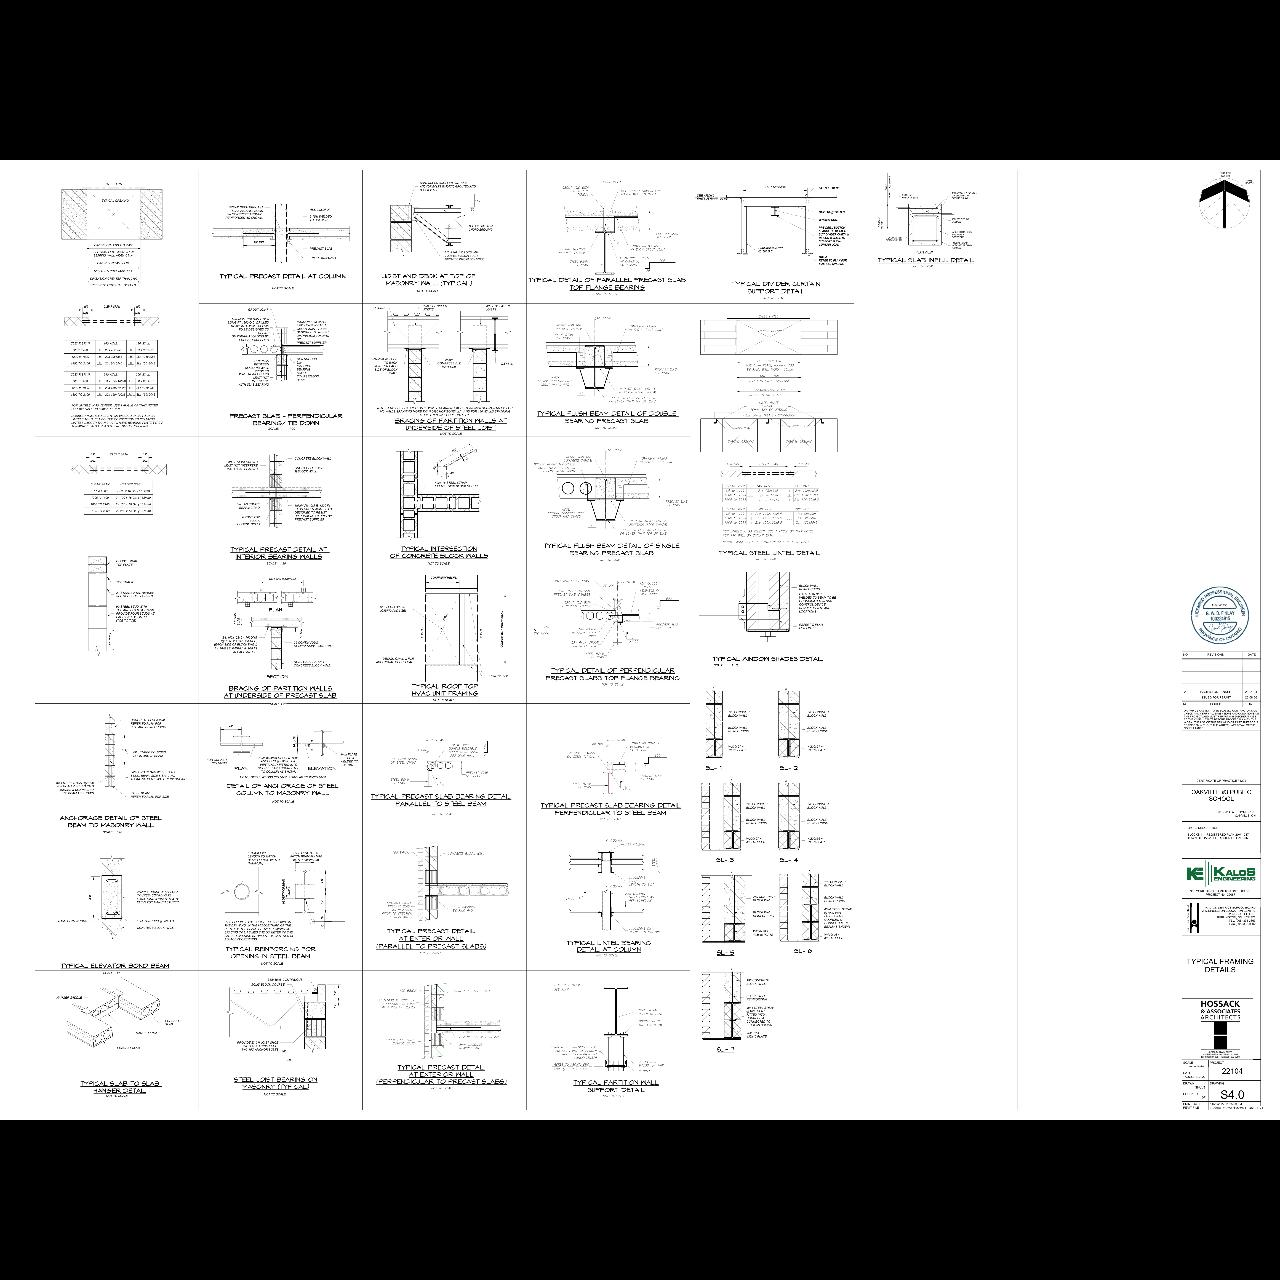title: (373, 1063, 511, 1091), (369, 791, 515, 817), (527, 274, 687, 297), (374, 926, 489, 956), (543, 666, 683, 690), (538, 799, 685, 822), (217, 270, 349, 293), (540, 540, 685, 561), (536, 409, 682, 429), (222, 685, 339, 708), (387, 543, 493, 567), (225, 781, 342, 803), (229, 411, 347, 431), (394, 416, 510, 436), (59, 813, 165, 835), (380, 271, 481, 293), (229, 545, 332, 566), (230, 1074, 322, 1096), (223, 945, 319, 966), (565, 938, 654, 960), (730, 279, 824, 300), (708, 653, 825, 669), (403, 681, 484, 703), (572, 1080, 662, 1098), (80, 1078, 164, 1098), (59, 962, 171, 975), (716, 549, 822, 561), (874, 256, 975, 268)
